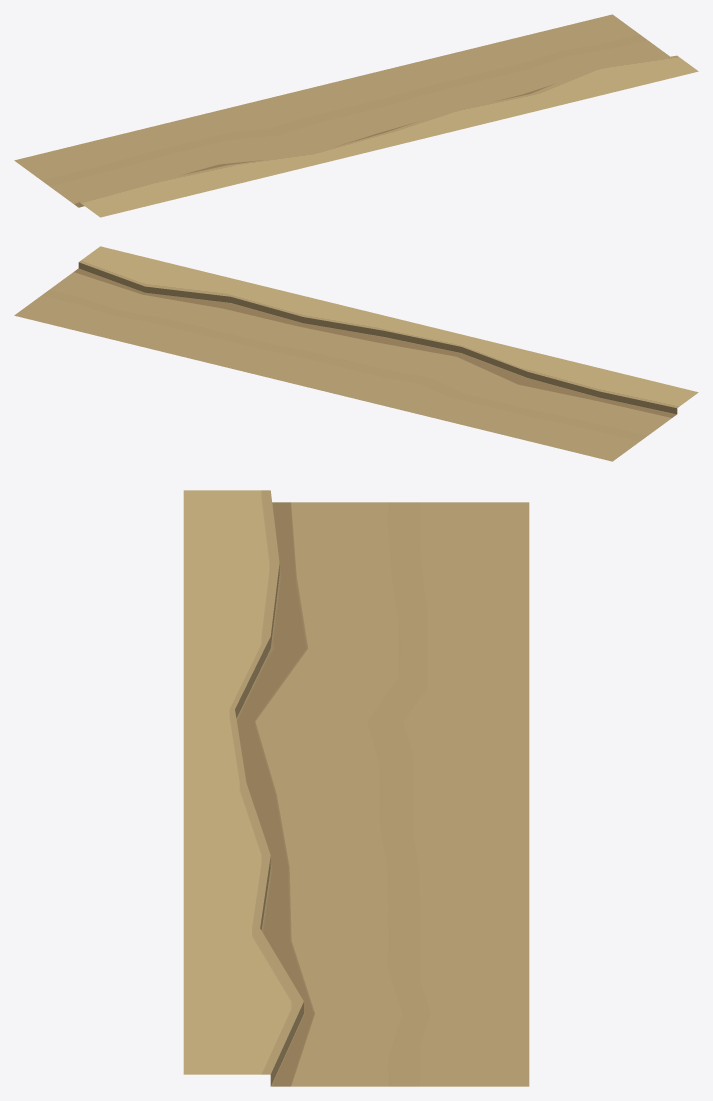
Rendered from SM_Env_Road_Dirt_Long_01.gltf.
3 renders of one model, top to bottom at view 1: azimuth 30°, elevation 25°; view 2: azimuth 150°, elevation 25°; view 3: azimuth 270°, elevation 25°, orthographic. The views are drawn at different scales.
Parts seen in each view (by area): view 1: SM_Env_Road_Dirt_Long_01; view 2: SM_Env_Road_Dirt_Long_01; view 3: SM_Env_Road_Dirt_Long_01.
Part boxes in pixels (box(x1,y1,x2,y2)): SM_Env_Road_Dirt_Long_01: box(14, 14, 698, 217); SM_Env_Road_Dirt_Long_01: box(14, 246, 698, 461); SM_Env_Road_Dirt_Long_01: box(183, 490, 529, 1086).
Bounding box in the file's own units: 20 × 0.1948 × 5.
Materials: 1 (1 with a texture image).
